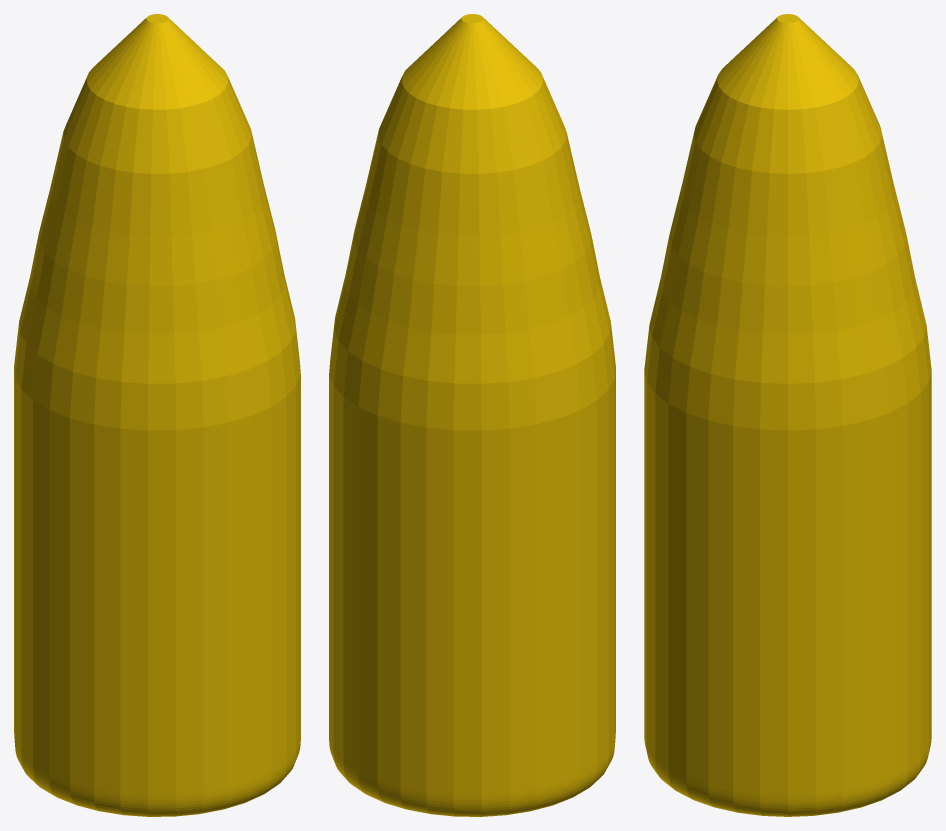
File: Bullet.556.fbx
3 renders of one model, left to right at view 1: azimuth 30°, elevation 25°; view 2: azimuth 150°, elevation 25°; view 3: azimuth 270°, elevation 25°, orthographic.
Visible parts, largest first — view 1: Cone; view 2: Cone; view 3: Cone.
Part boxes in pixels (<box>): Cone: <box>14,14,300,816</box>; Cone: <box>329,14,615,816</box>; Cone: <box>644,14,931,816</box>.
Size of the model in its own units: 50 by 143 by 50.
